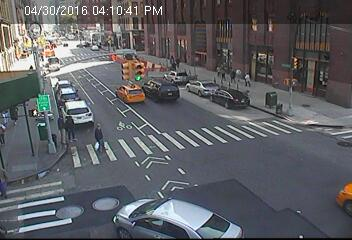neg: (280, 112, 308, 149), (157, 186, 184, 223), (308, 171, 334, 207), (106, 194, 130, 227), (219, 199, 243, 230), (219, 117, 240, 145), (167, 116, 184, 139), (109, 112, 123, 132), (92, 52, 106, 71), (45, 62, 59, 80), (128, 45, 139, 61), (198, 62, 208, 75), (162, 51, 170, 62)
pos: (85, 120, 112, 156), (63, 114, 84, 142), (234, 66, 246, 80), (220, 67, 231, 82), (175, 54, 186, 68), (243, 71, 253, 83)
